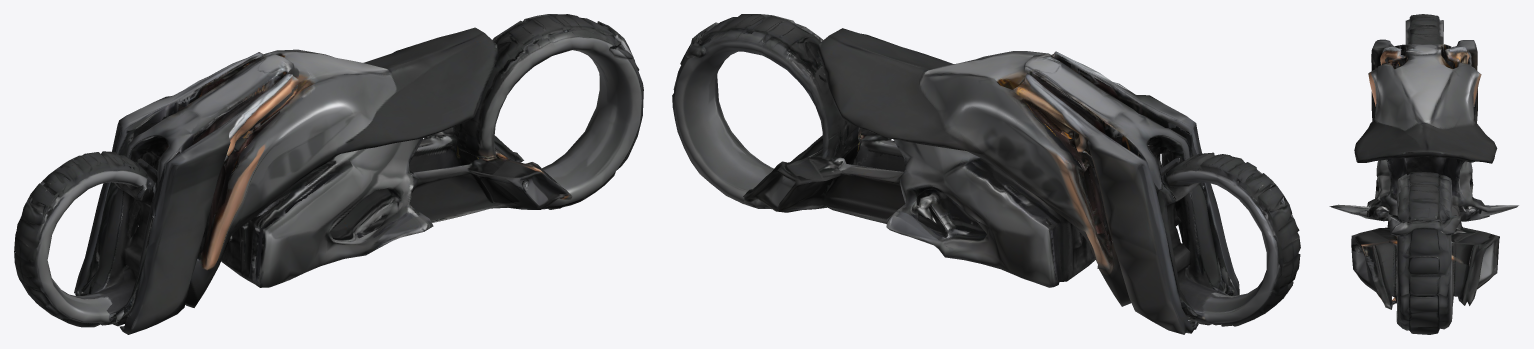
Rendered from Futuristic_Motorcycle_0411035528_texture.glb.
The picture shows the model from 3 angles, left to right: view 1: azimuth 30°, elevation 25°; view 2: azimuth 150°, elevation 25°; view 3: azimuth 270°, elevation 25°; orthographic projection. The views are drawn at different scales.
Size of the model in its own units: 2 by 0.6776 by 0.664.
Materials: 1 (1 with a texture image).
